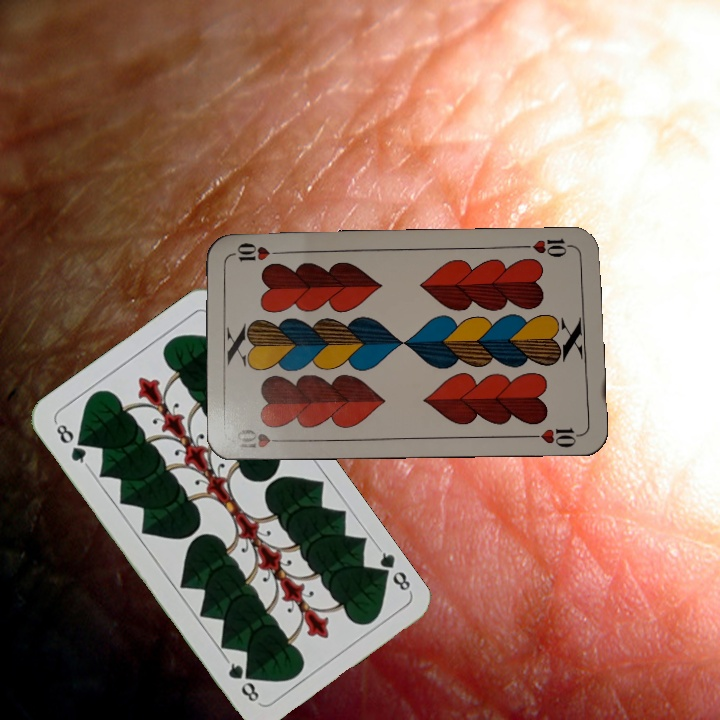G8: (370, 543, 415, 595), (51, 418, 91, 469)
H10: (233, 425, 291, 452), (519, 234, 578, 260)
